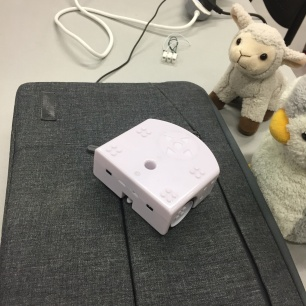thymio: (89, 117, 225, 234)
